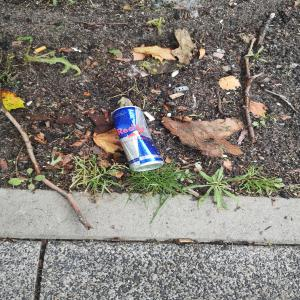Can: (109, 105, 170, 175)
